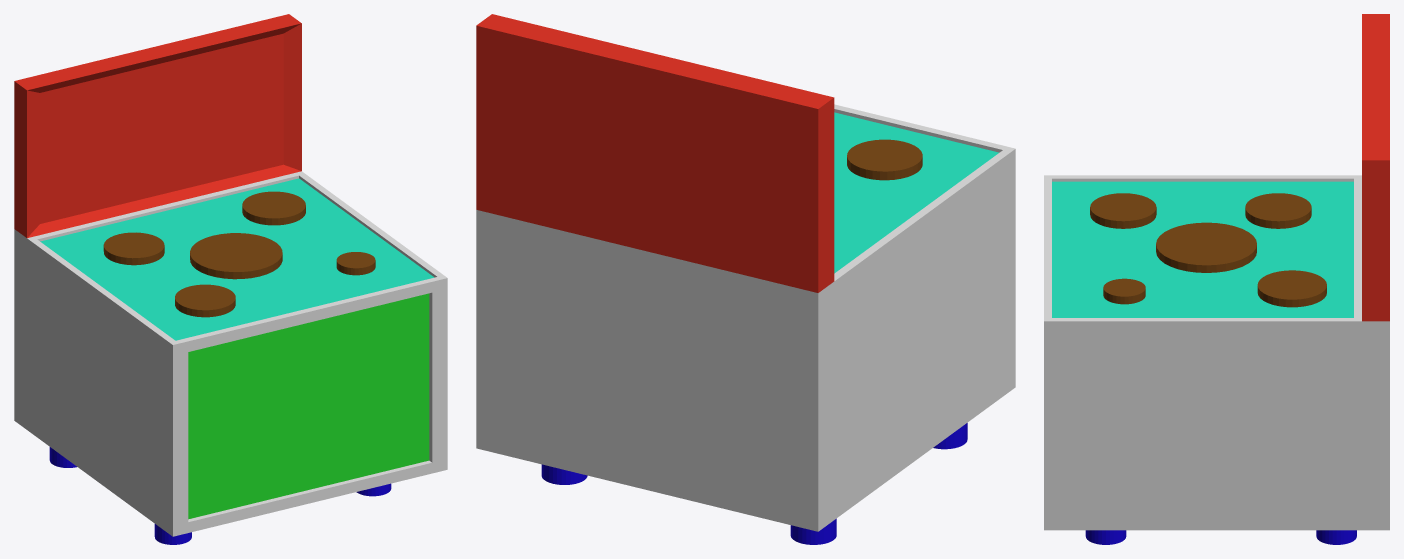
The model's file is Oven.fbx.
The picture shows the model from 3 angles, left to right: view 1: azimuth 30°, elevation 25°; view 2: azimuth 150°, elevation 25°; view 3: azimuth 270°, elevation 25°; orthographic projection. The views are drawn at different scales.
Parts seen in each view (by area): view 1: Cube; view 2: Cube; view 3: Cube.
Boxes of the visible parts, bbox=[...] form: Cube: bbox=[14, 14, 447, 544]; Cube: bbox=[476, 14, 1015, 544]; Cube: bbox=[1044, 14, 1389, 544].
Bounding box in the file's own units: 150 × 192 × 150.
